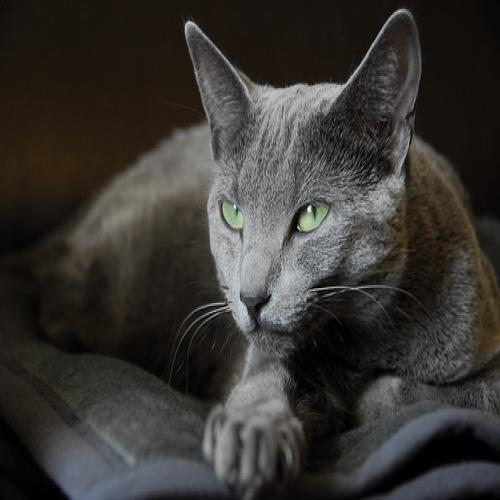rblue: (172, 1, 443, 368)
